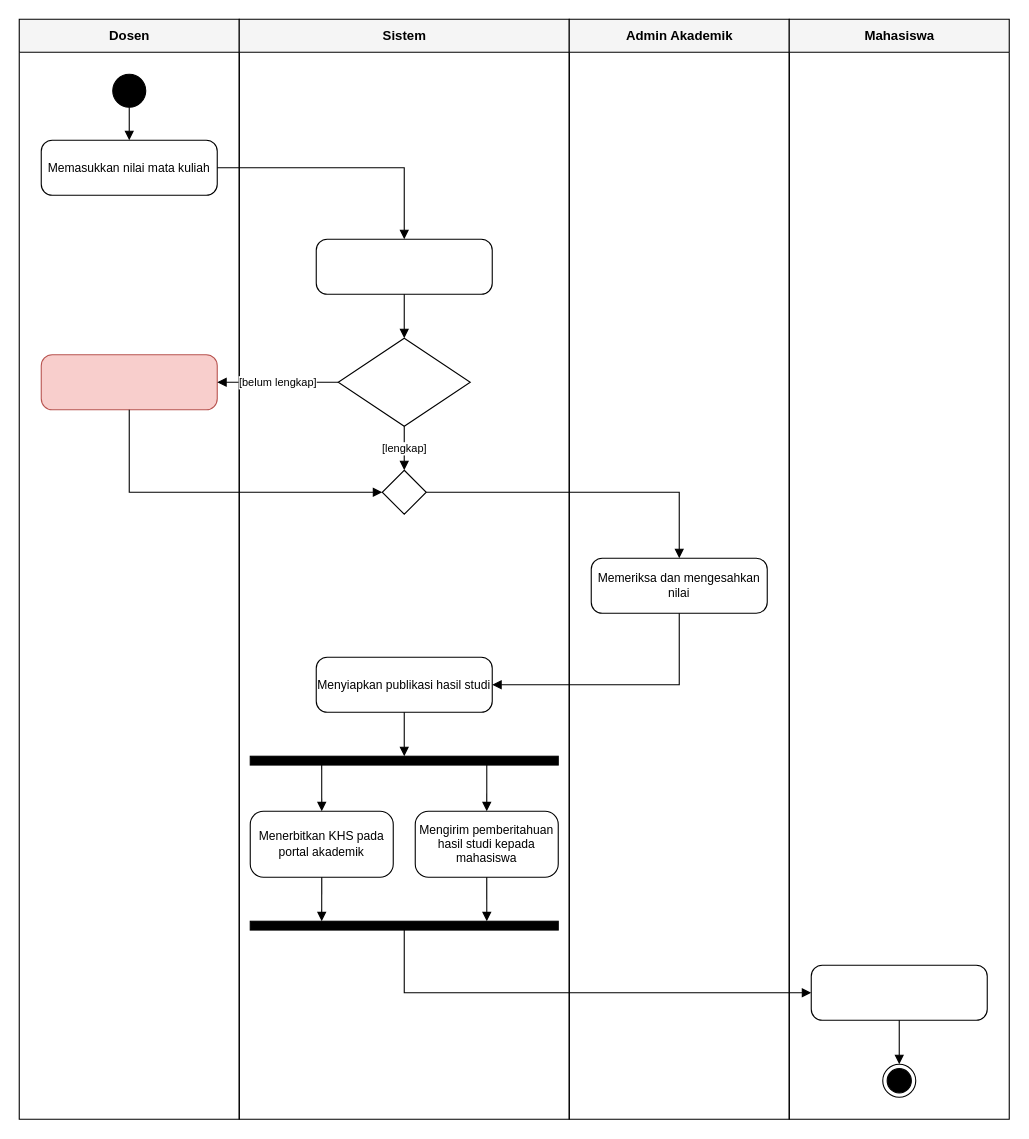
This 1029x1139 diagram has some shape labels left out. The centre of each missing label's shape, as x and y in pixels:
"Melengkapi nilai mata kuliah yang belum lengkap" goes at [128,382].
"Melihat KHS" goes at [898,992].
"Menyimpan nilai" goes at [403,266].
"Nilai sudah lengkap?" goes at [403,381].
